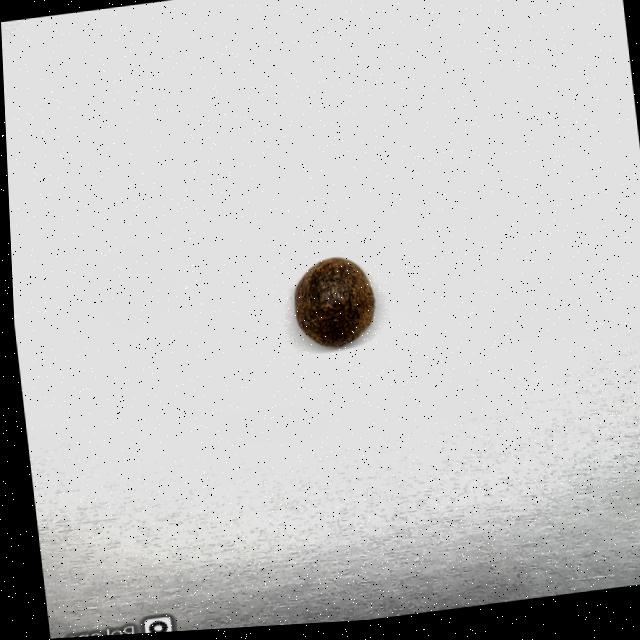Black: (285, 256, 377, 355)
